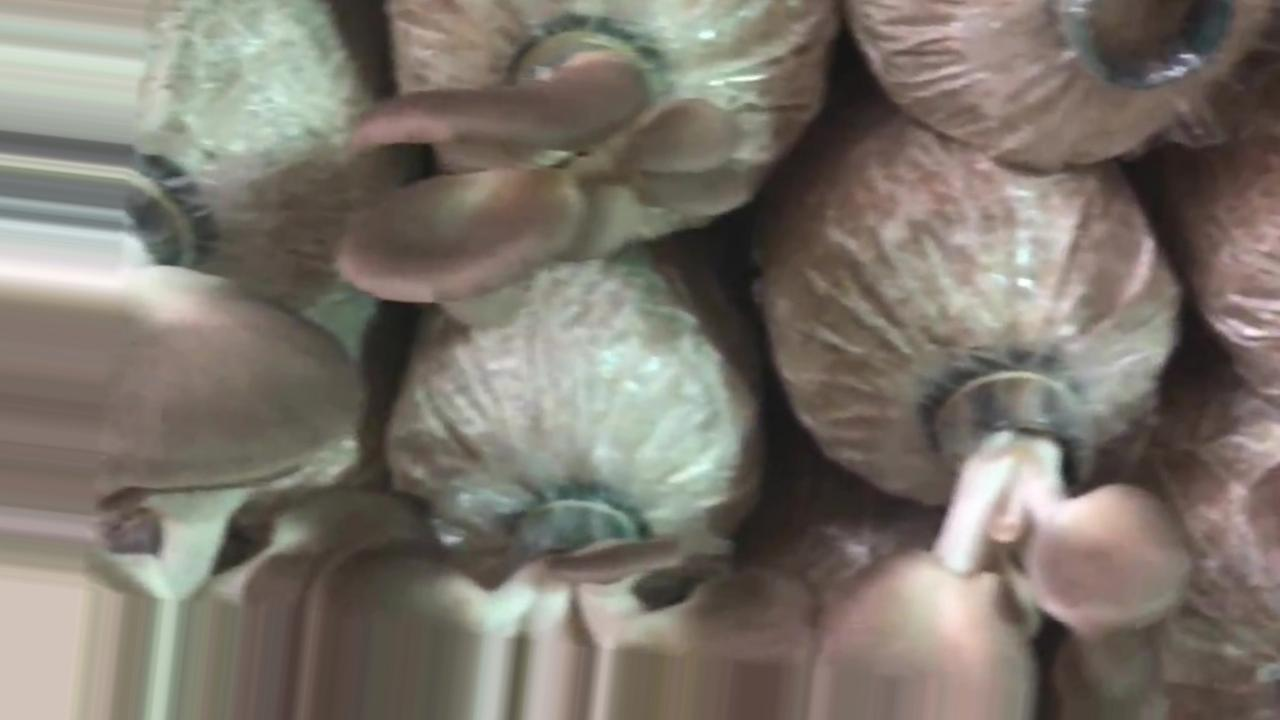nam: (809, 364, 1190, 720), (340, 24, 758, 309), (85, 146, 360, 487), (320, 498, 811, 678)
